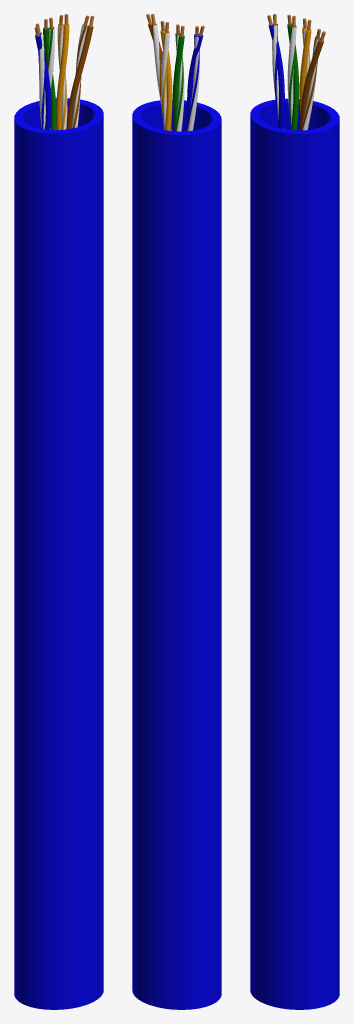
The model's file is Cable1.fbx.
The picture shows the model from 3 angles, left to right: view 1: azimuth 30°, elevation 25°; view 2: azimuth 150°, elevation 25°; view 3: azimuth 330°, elevation 25°; orthographic projection.
Visible parts, largest first — view 1: Cylinder, Orange, Brown.003, White/Blue, Orange.001, Brown.001, White/Blue.001, White/Green.001, White/Green.003; view 2: Cylinder, White/Green.001, Orange.001, White/Blue, Orange, White/Green.003, White/Blue.001, Brown.001; view 3: Cylinder, White/Blue.001, White/Green.003, Brown.003, White/Green.001, Brown.001, Orange, White/Blue.
Part boxes in pixels (x1,y1,x2,y2): Cylinder: [14, 98, 103, 1009]; Orange: [56, 14, 69, 129]; Brown.003: [66, 15, 94, 129]; White/Blue: [35, 23, 45, 129]; Orange.001: [57, 15, 67, 129]; Brown.001: [71, 15, 89, 128]; White/Blue.001: [34, 26, 51, 129]; White/Green.001: [43, 19, 56, 130]; White/Green.003: [45, 17, 54, 129]; Cylinder: [132, 100, 221, 1009]; White/Green.001: [172, 25, 184, 131]; Orange.001: [161, 22, 169, 129]; White/Blue: [187, 26, 199, 131]; Orange: [160, 21, 172, 130]; White/Green.003: [175, 24, 184, 131]; White/Blue.001: [187, 25, 204, 130]; Brown.001: [151, 14, 171, 130]; Cylinder: [250, 98, 339, 1009]; White/Blue.001: [267, 15, 284, 128]; White/Green.003: [287, 15, 297, 129]; Brown.003: [300, 31, 325, 130]; White/Green.001: [287, 14, 299, 130]; Brown.001: [302, 28, 320, 130]; Orange: [299, 19, 311, 113]; White/Blue: [272, 14, 285, 129].
Bounding box in the file's own units: 196 × 2281 × 173.
